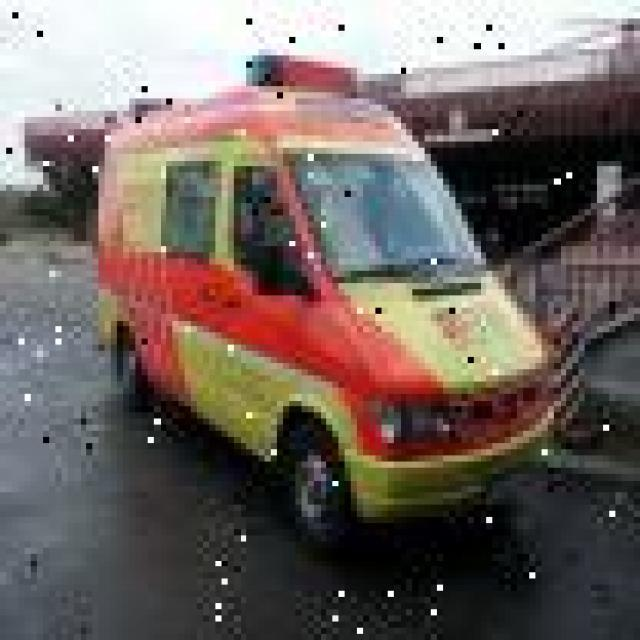emergency-vehicle: (98, 49, 554, 566)
